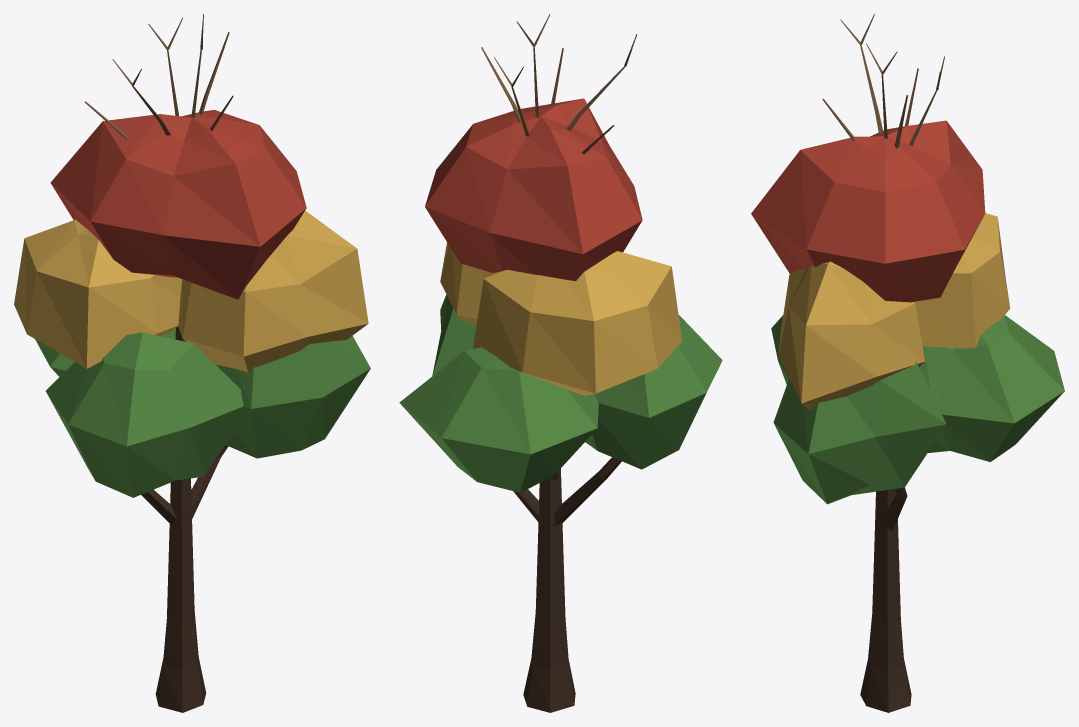
Rendered from maple-tree-65fa12.glb.
The picture shows the model from 3 angles, left to right: view 1: azimuth 30°, elevation 25°; view 2: azimuth 150°, elevation 25°; view 3: azimuth 270°, elevation 25°; orthographic projection. The views are drawn at different scales.
Visible parts, largest first — view 1: maple-tree-mesh; view 2: maple-tree-mesh; view 3: maple-tree-mesh.
Boxes of the visible parts, bbox=[...] form: maple-tree-mesh: bbox=[14, 14, 370, 712]; maple-tree-mesh: bbox=[399, 14, 722, 712]; maple-tree-mesh: bbox=[751, 14, 1064, 712].
Size of the model in its own units: 3.29 by 7.48 by 3.21.
